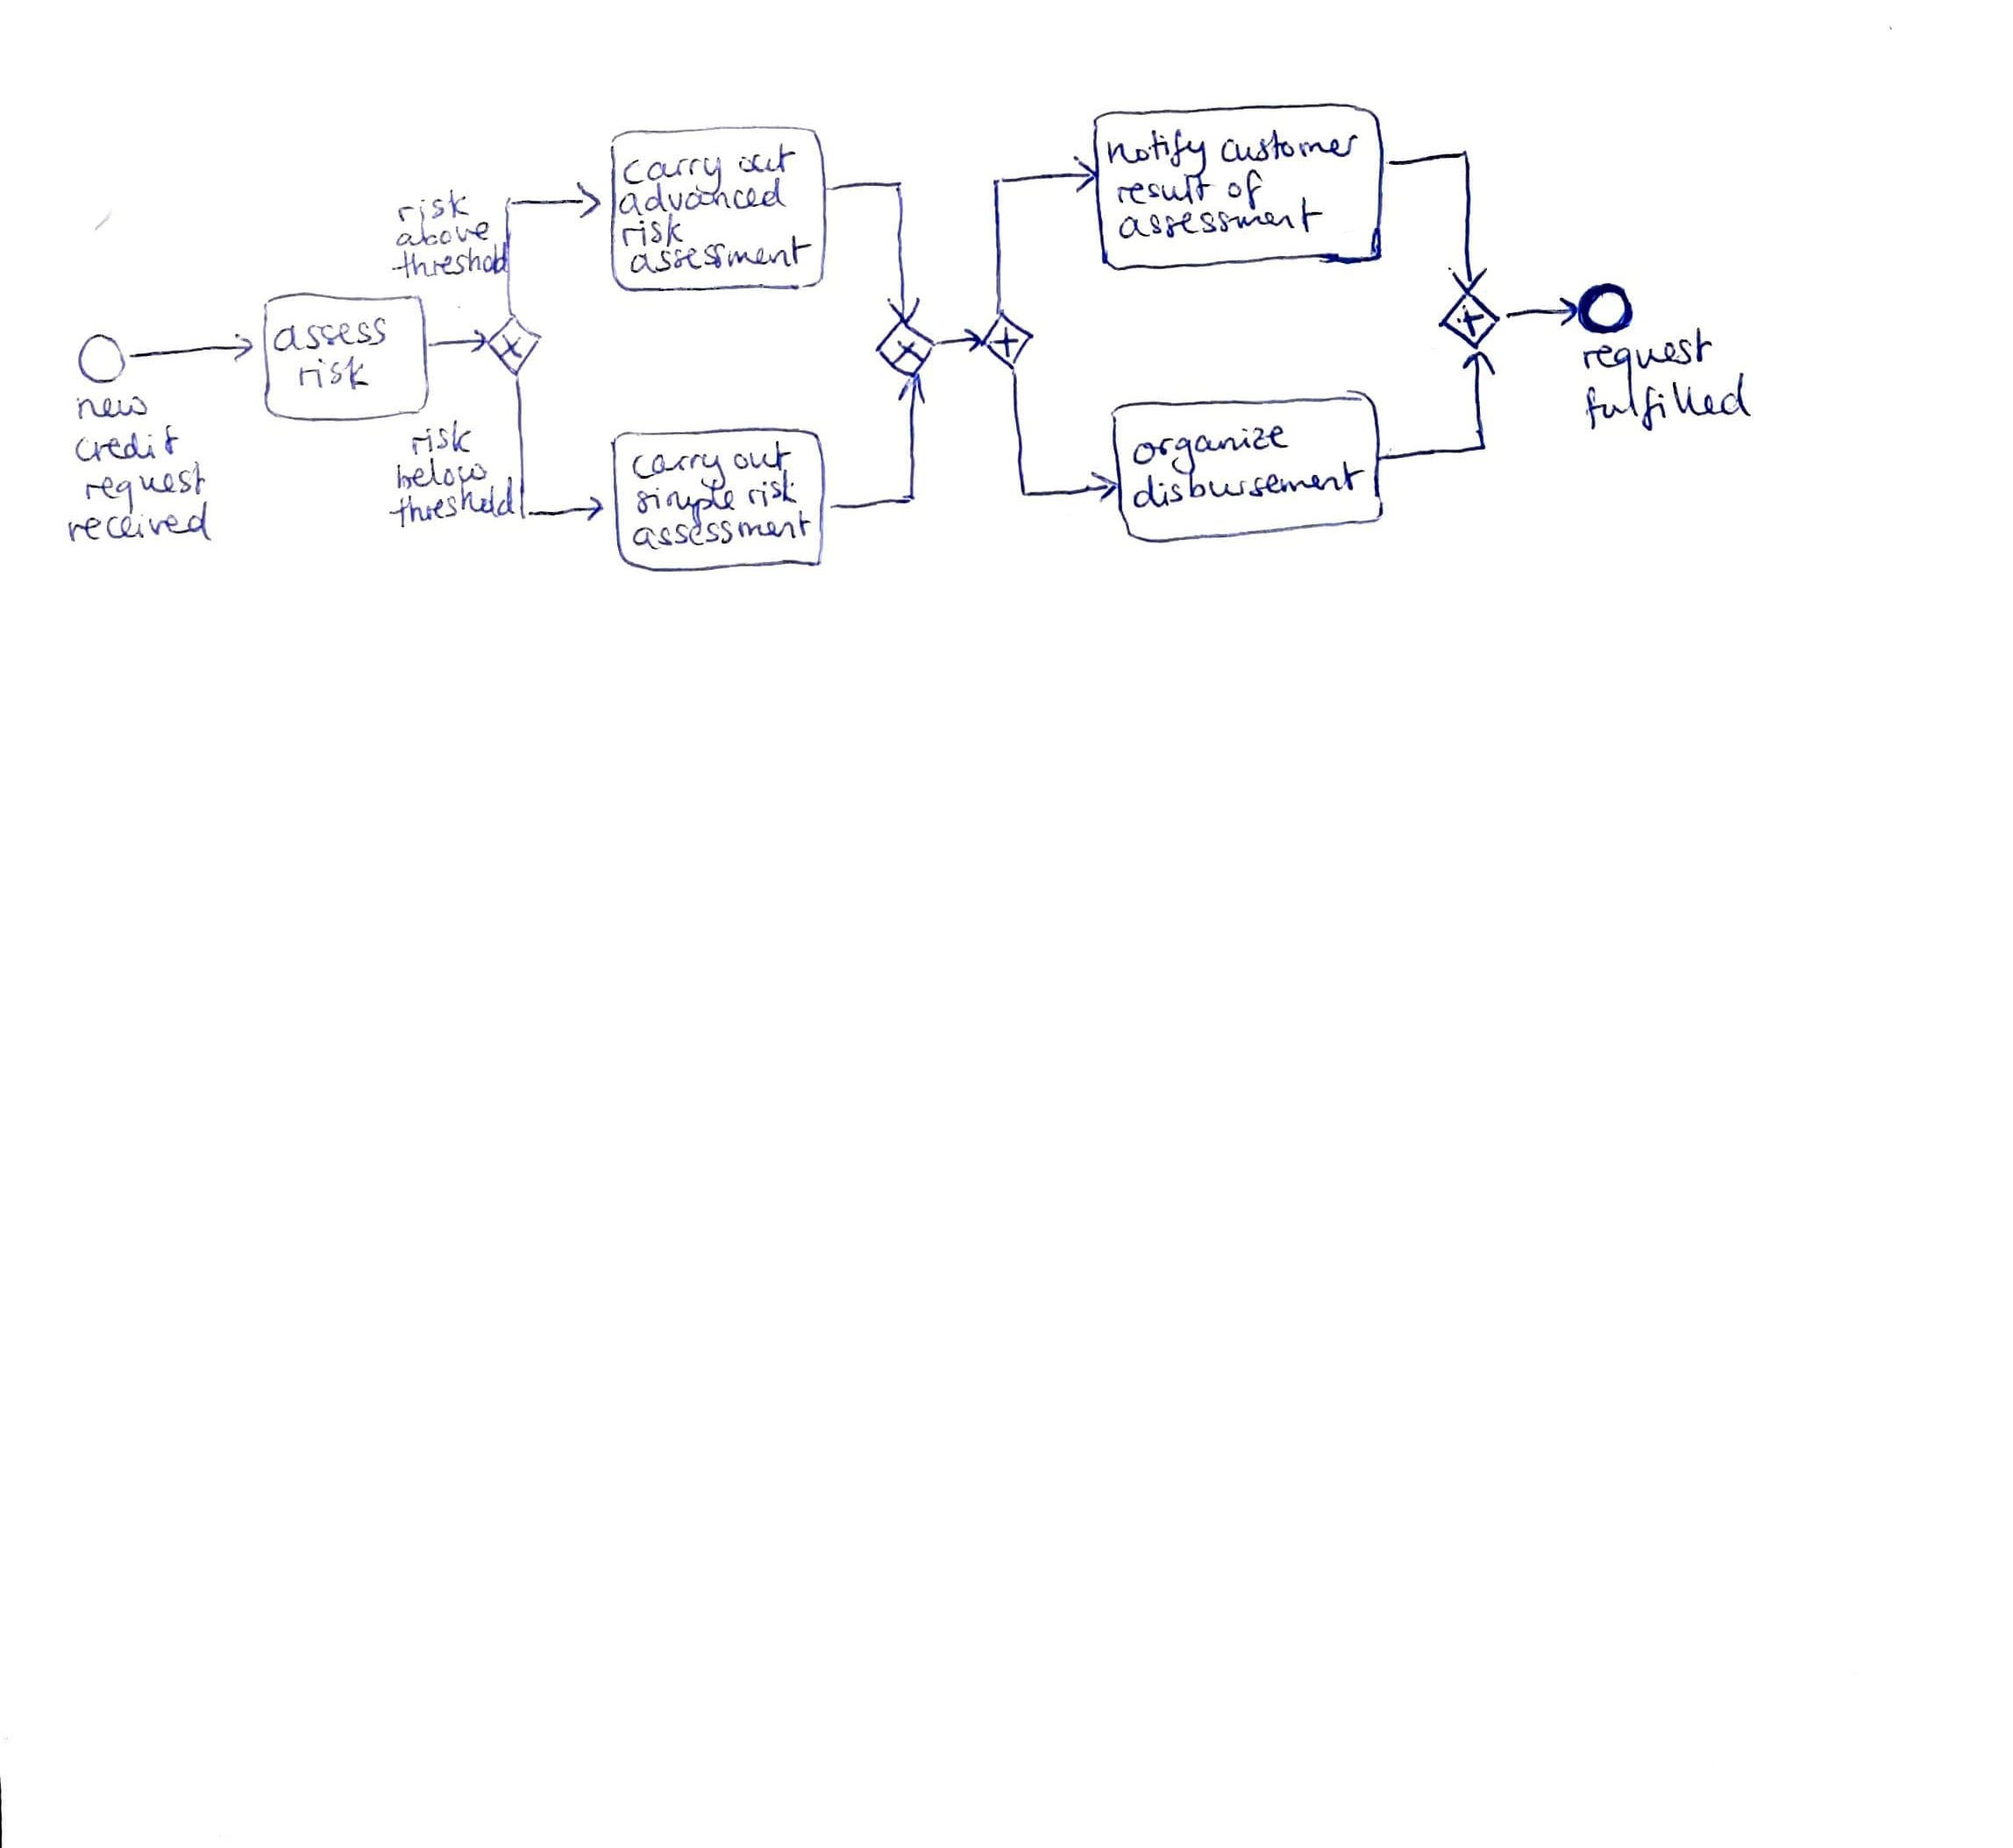above: (391, 216, 494, 251)
advanced: (615, 174, 791, 221)
assess: (268, 312, 393, 356)
assessment: (1115, 193, 1326, 245), (628, 507, 814, 558), (624, 231, 814, 279)
below: (393, 452, 491, 493)
carry: (621, 153, 729, 200), (628, 445, 729, 494)
credit: (70, 421, 182, 470)
customer: (1217, 126, 1362, 168)
disbursement: (1129, 456, 1369, 514)
fulfilled: (1582, 370, 1759, 437)
new: (74, 393, 151, 423)
notify: (1103, 126, 1210, 182)
of: (1224, 167, 1270, 214)
organize: (1129, 421, 1291, 479)
out: (729, 438, 796, 477), (735, 140, 800, 177)
received: (61, 496, 216, 547)
request: (81, 459, 210, 519), (1578, 324, 1715, 379)
result: (1112, 172, 1217, 210)
risk: (295, 351, 372, 394), (395, 186, 473, 224), (407, 417, 477, 459), (617, 210, 687, 252), (743, 466, 800, 510)
simple: (631, 475, 740, 530)
threshold: (384, 473, 519, 535), (388, 242, 512, 284)
